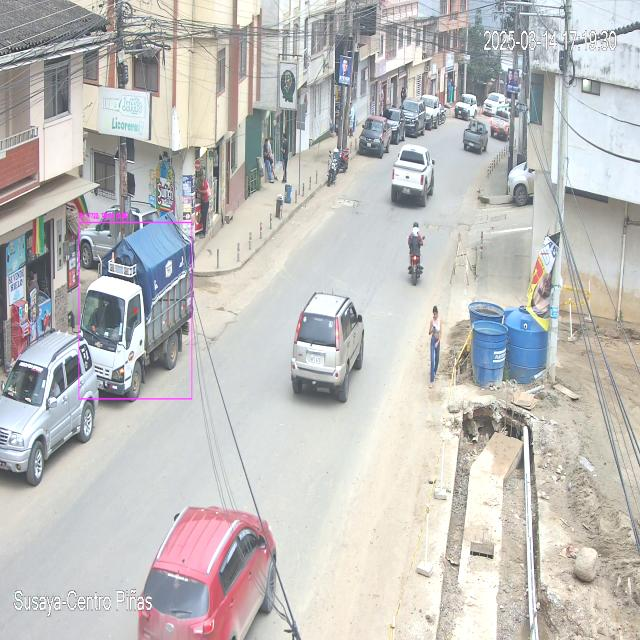CMT: (391, 144, 435, 210)
MOTORCYCLE: (408, 236, 424, 286)
SUV: (140, 506, 281, 640), (288, 292, 366, 408)
TRUCK: (85, 218, 193, 396)
